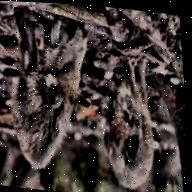boar: (0, 8, 108, 181), (93, 51, 166, 192)
